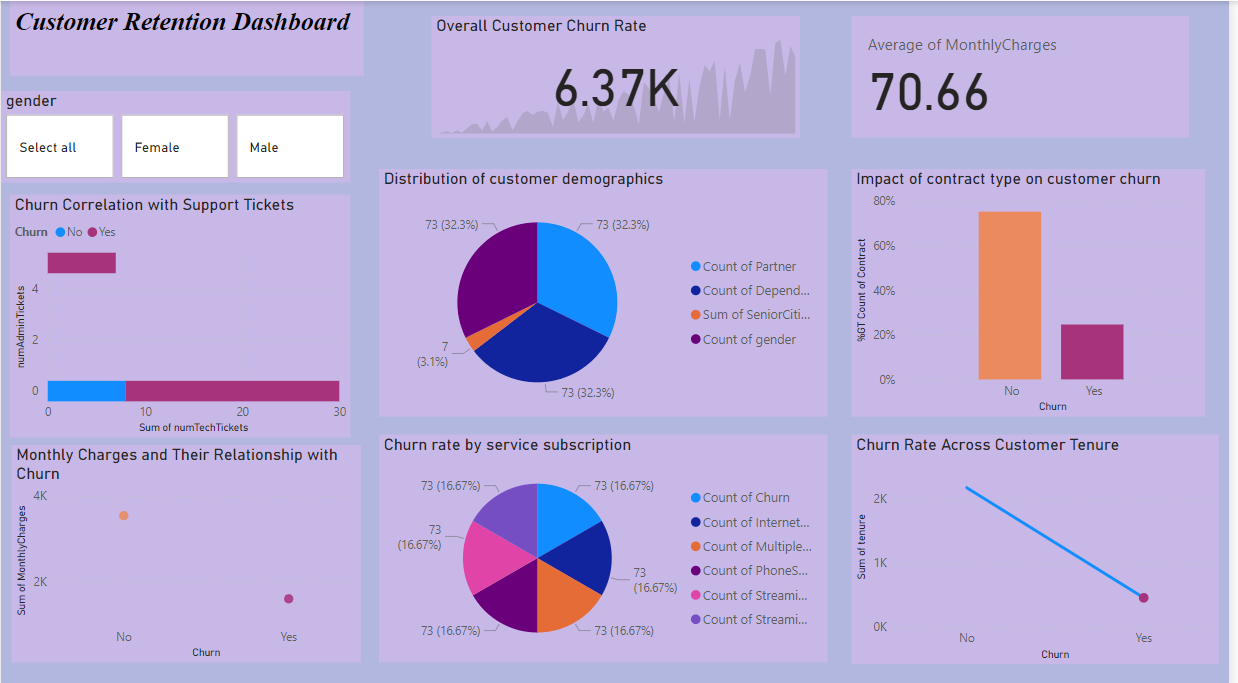

Layout of this report page (visuals, bound fields, positions):
{"tool":"powerbi","page":{"name":"Page 1","canvas":[1280,720],"ordinal":0},"visuals":[{"type":"textbox","box":[9.4,0,368.9,78.1],"z":0},{"type":"pieChart","title":"Distribution of customer demographics","fields":{"Y":["CountNonNull(Customer Churn-Data.Partner)","CountNonNull(Customer Churn-Data.Dependents)","Sum(Customer Churn-Data.SeniorCitizen)","CountNonNull(Customer Churn-Data.gender)"]},"box":[393.9,175.1,467.3,257.9],"z":1000},{"type":"columnChart","title":"Impact of contract type on customer churn","fields":{"Category":["Customer Churn-Data.Churn"],"Y":["CountNonNull(Customer Churn-Data.Contract)"]},"box":[886.2,175.1,368.9,257.9],"z":2000},{"type":"pieChart","title":"Churn rate by service subscription","fields":{"Y":["CountNonNull(Customer Churn-Data.Churn)","CountNonNull(Customer Churn-Data.InternetService)","CountNonNull(Customer Churn-Data.MultipleLines)","CountNonNull(Customer Churn-Data.PhoneService)","CountNonNull(Customer Churn-Data.StreamingMovies)","CountNonNull(Customer Churn-Data.StreamingTV)"]},"box":[393.9,451.7,467.3,237.6],"z":3000},{"type":"lineChart","title":"Churn Rate Across Customer Tenure","fields":{"Y":["Sum(Customer Churn-Data.tenure)"],"Category":["Customer Churn-Data.Churn"]},"box":[886.2,451.7,382.9,239.1],"z":4000},{"type":"scatterChart","title":"Monthly Charges and Their Relationship with Churn","fields":{"X":["Customer Churn-Data.Churn"],"Y":["Sum(Customer Churn-Data.MonthlyCharges)"]},"box":[10.9,462.6,364.2,226.6],"z":5000},{"type":"barChart","title":"Churn Correlation with Support Tickets","fields":{"Category":["Customer Churn-Data.numAdminTickets"],"Y":["Sum(Customer Churn-Data.numTechTickets)"],"Series":["Customer Churn-Data.Churn"]},"box":[9.4,201.6,354.8,253.2],"z":6000},{"type":"kpi","title":"Overall Customer Churn Rate","fields":{"Indicator":["Sum(Customer Churn-Data.TotalCharges)"],"TrendLine":["Customer Churn-Data.tenure"]},"box":[448.6,15.2,384,127.4],"z":7000},{"type":"cardVisual","fields":{"Data":["Avg(Customer Churn-Data.MonthlyCharges)"]},"box":[886.2,15.6,351.7,126.6],"z":8000},{"type":"advancedSlicerVisual","fields":{"Values":["Customer Churn-Data.gender"]},"box":[0,93.8,364.2,95.3],"z":9000}]}

Visuals, with their boxes in screenshot pixels (x1, y1, x2, y2), scaled from the page's 1280x720 canvas onto the 1238x683 screenshot:
textbox: bbox(9, 0, 366, 74)
"Distribution of customer demographics" pieChart: bbox(381, 166, 833, 411)
"Impact of contract type on customer churn" columnChart: bbox(857, 166, 1214, 411)
"Churn rate by service subscription" pieChart: bbox(381, 428, 833, 654)
"Churn Rate Across Customer Tenure" lineChart: bbox(857, 428, 1227, 655)
"Monthly Charges and Their Relationship with Churn" scatterChart: bbox(11, 439, 363, 654)
"Churn Correlation with Support Tickets" barChart: bbox(9, 191, 352, 431)
"Overall Customer Churn Rate" kpi: bbox(434, 14, 805, 135)
cardVisual - Avg(Customer Churn-Data.MonthlyCharges): bbox(857, 15, 1197, 135)
advancedSlicerVisual - Customer Churn-Data.gender: bbox(0, 89, 352, 179)
